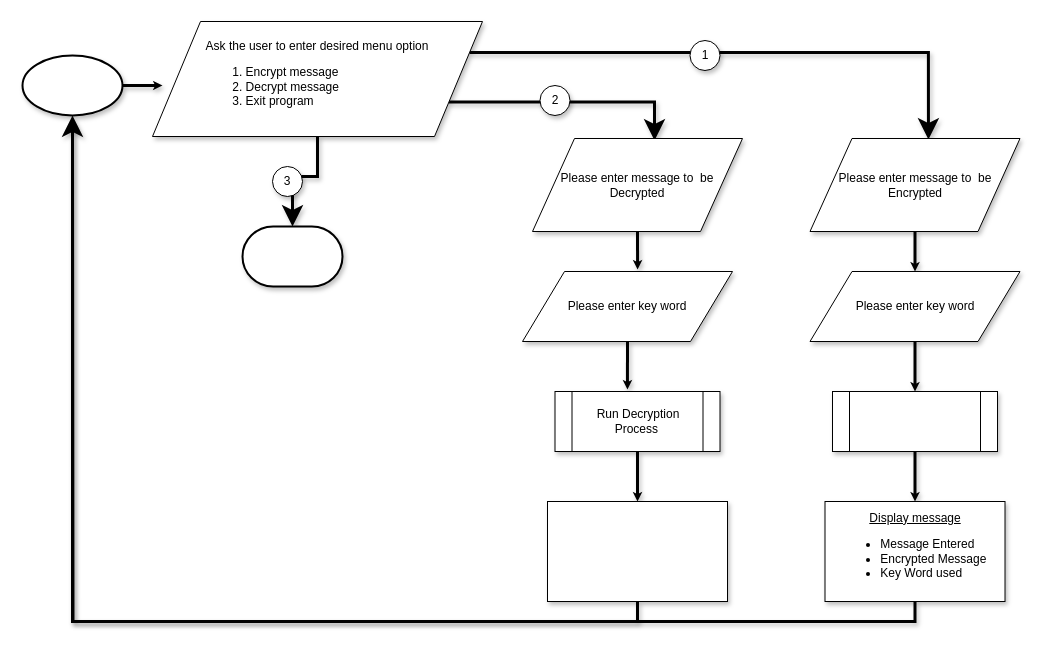
Image size: 1043x661. Some labels were removed from this diagram. The shapes that lost their labels are listed below. From the top down, each one's centre as x and y in pixels, then its label:
At [73,86]: "Start Program".
At [293,257]: "End Program".
At [916,422]: "Run Encryption Process".
At [638,552]: "Display message Message Entered D ecrypted Message Key Word used".
